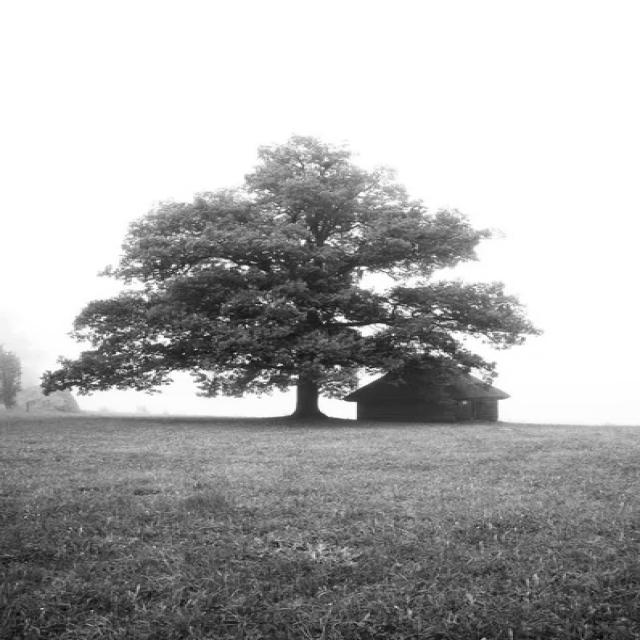Tree: (42, 136, 535, 418)
